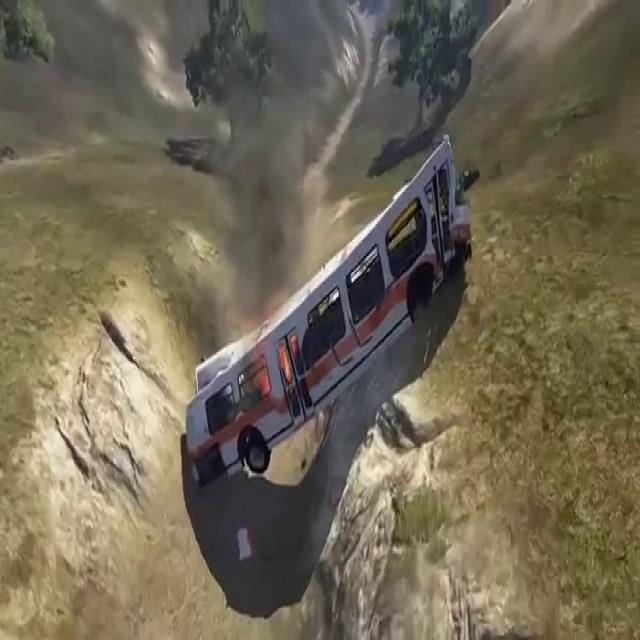severe: (180, 118, 480, 501)
